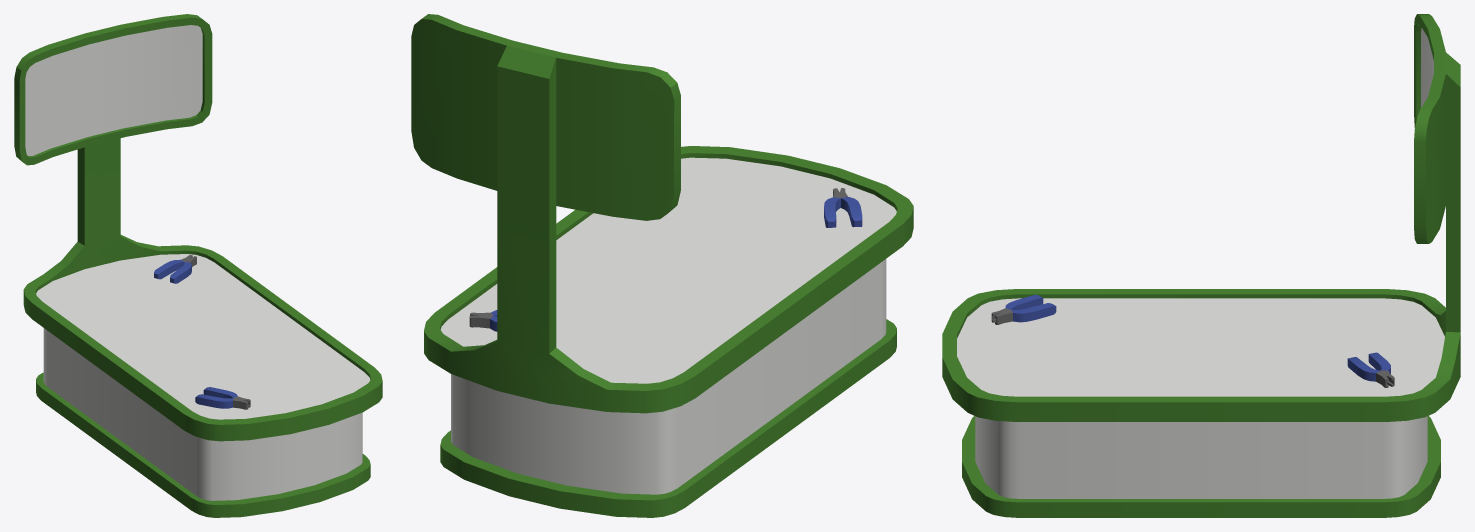
File: SM_Props_Nail_Trimming.fbx
The picture shows the model from 3 angles, left to right: view 1: azimuth 30°, elevation 25°; view 2: azimuth 150°, elevation 25°; view 3: azimuth 270°, elevation 25°; orthographic projection. The views are drawn at different scales.
Visible parts, largest first — view 1: SM_Props_Nail_Trimming; view 2: SM_Props_Nail_Trimming; view 3: SM_Props_Nail_Trimming.
Boxes of the visible parts, x1,y1,x2,y2 form: SM_Props_Nail_Trimming: [14, 14, 382, 517]; SM_Props_Nail_Trimming: [411, 14, 913, 517]; SM_Props_Nail_Trimming: [942, 14, 1460, 517].
Size of the model in its own units: 1.21 by 1.99 by 2.32.
